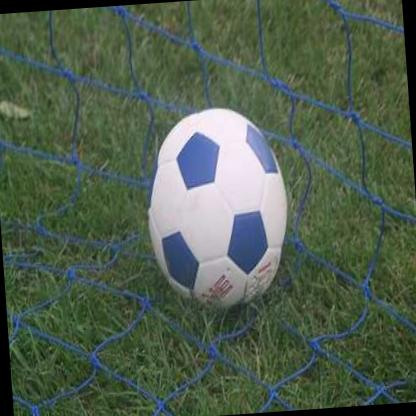ball: (141, 105, 295, 316)
